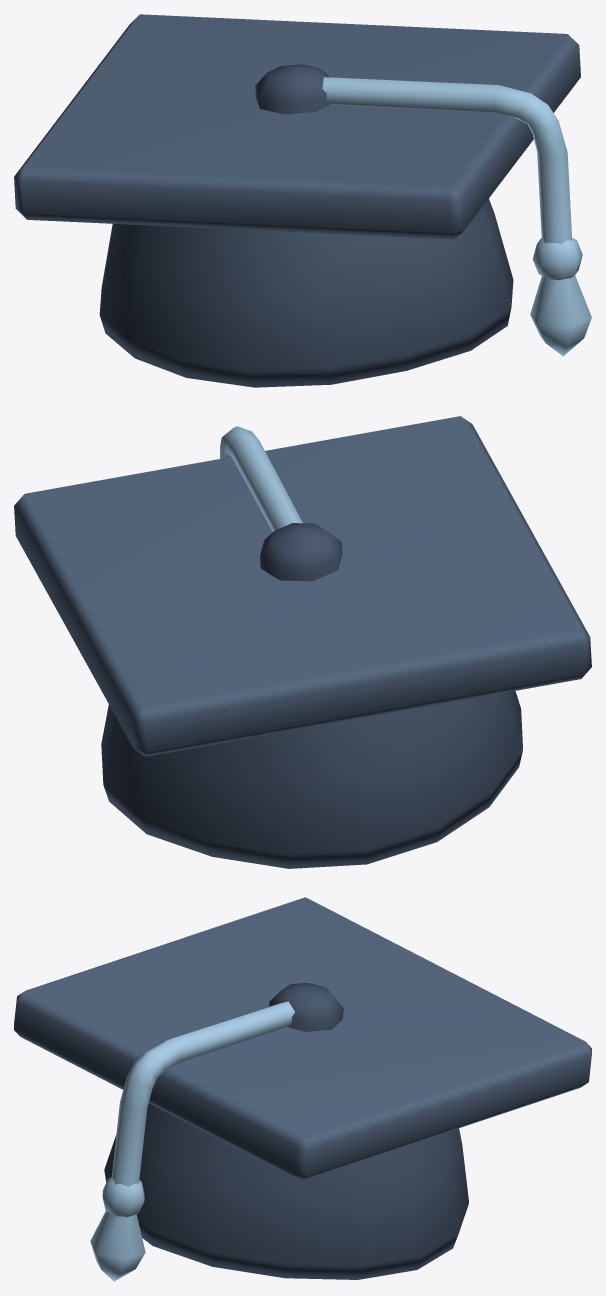
File: Headgear_31.fbx
3 renders of one model, top to bottom at view 1: azimuth 30°, elevation 25°; view 2: azimuth 150°, elevation 25°; view 3: azimuth 270°, elevation 25°, orthographic. The views are drawn at different scales.
Parts seen in each view (by area): view 1: Headgear_31; view 2: Headgear_31; view 3: Headgear_31.
Part boxes in pixels (<box>): Headgear_31: <box>14,14,591,387</box>; Headgear_31: <box>14,416,591,868</box>; Headgear_31: <box>14,897,591,1281</box>.
Bounding box in the file's own units: 97.26 × 43.92 × 97.29.
